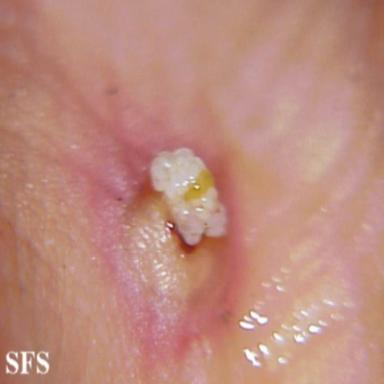Tungiasis: (127, 148, 227, 292)
